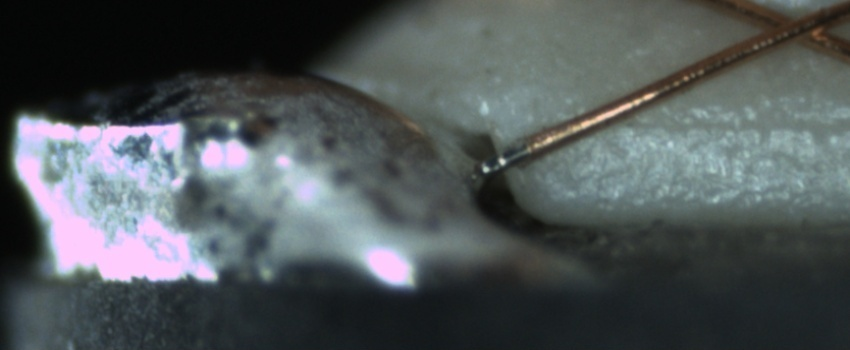CL: (745, 3, 841, 52)
DL: (611, 91, 847, 157)
TS: (479, 140, 530, 176)
TTCW: (479, 133, 542, 178)
